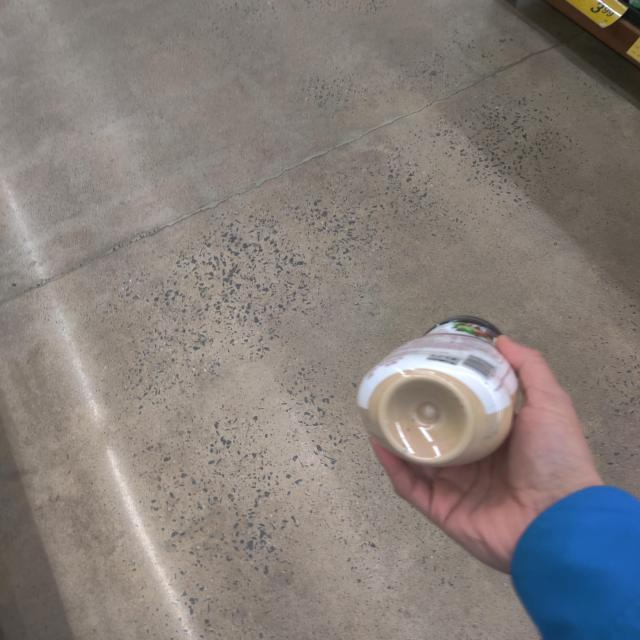Sauce: (347, 296, 548, 508)
